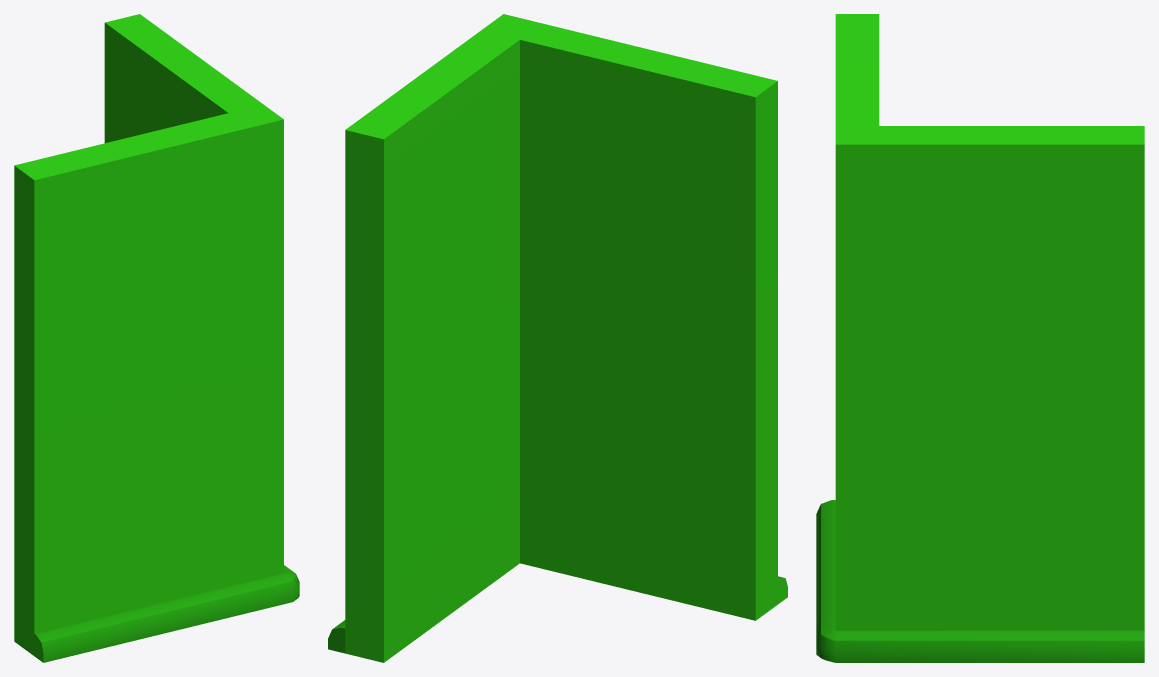
The model's file is G_WallCorner001.fbx.
3 views of the same model, side by side, from view 1: azimuth 30°, elevation 25°; view 2: azimuth 150°, elevation 25°; view 3: azimuth 270°, elevation 25° (orthographic). The views are drawn at different scales.
Parts seen in each view (by area): view 1: WallCorner.002; view 2: WallCorner.002; view 3: WallCorner.002.
Part boxes in pixels (x1,y1,x2,y2): WallCorner.002: [14, 14, 299, 662]; WallCorner.002: [328, 14, 787, 662]; WallCorner.002: [816, 14, 1144, 662].
Size of the model in its own units: 146 by 250 by 146.
Materials: 1 (1 with a texture image).
